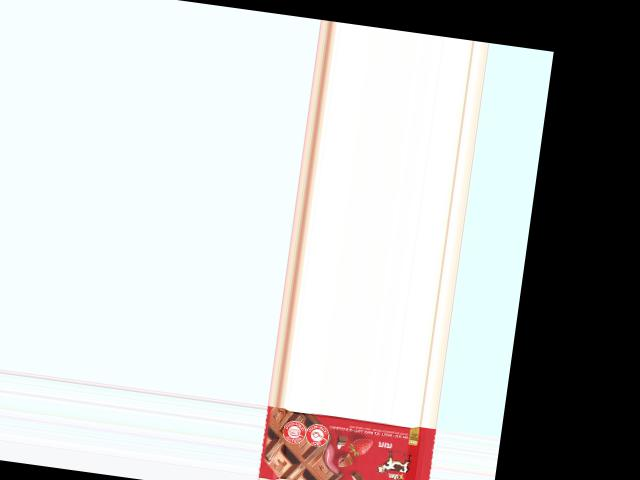chocolate: (258, 405, 437, 480)
